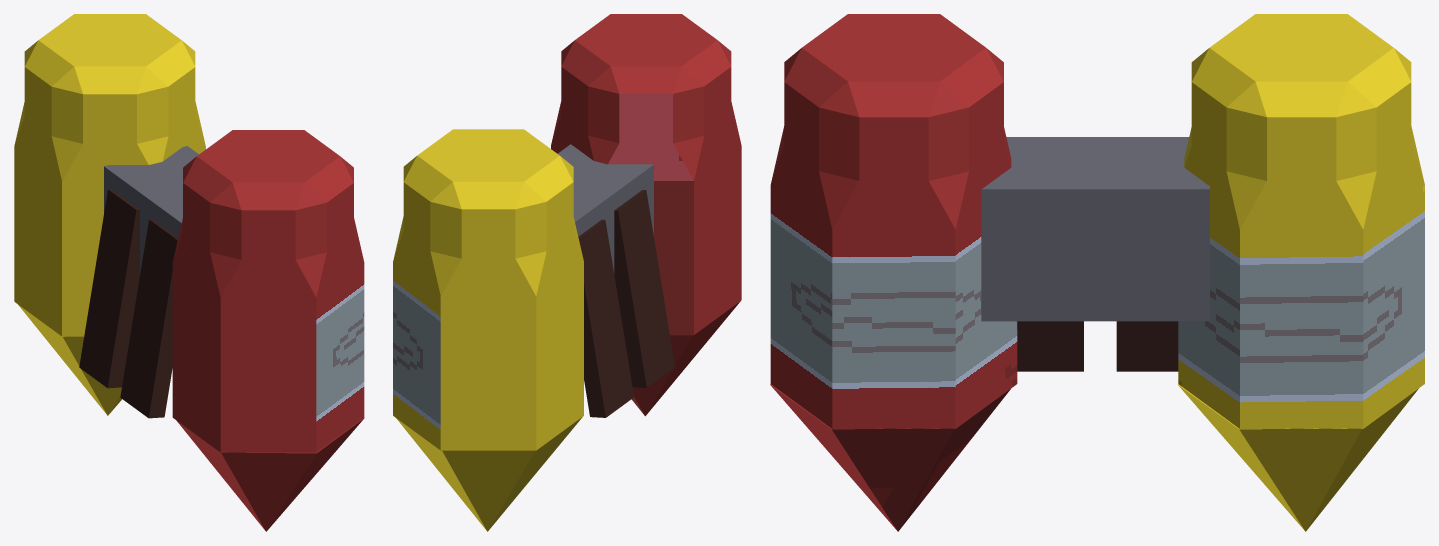
File: jetpack.glb
The picture shows the model from 3 angles, left to right: view 1: azimuth 30°, elevation 25°; view 2: azimuth 150°, elevation 25°; view 3: azimuth 270°, elevation 25°; orthographic projection. The views are drawn at different scales.
Visible parts, largest first — view 1: Cylinder, Cylinder.001, Cube.001, Cube.002, Cube; view 2: Cylinder.001, Cylinder, Cube.002, Cube.001, Cube; view 3: Cylinder.001, Cylinder, Cube, Cube.002, Cube.001.
Part boxes in pixels (left/top/right/bottom): Cylinder: left=172, top=130, right=364, bottom=531; Cylinder.001: left=14, top=14, right=205, bottom=415; Cube.001: left=79, top=189, right=139, bottom=388; Cube.002: left=120, top=219, right=178, bottom=418; Cube: left=104, top=146, right=198, bottom=274; Cylinder.001: left=393, top=129, right=583, bottom=531; Cylinder: left=551, top=14, right=741, bottom=416; Cube.002: left=614, top=190, right=674, bottom=387; Cube.001: left=578, top=219, right=633, bottom=417; Cube: left=558, top=144, right=653, bottom=273; Cylinder.001: left=1178, top=14, right=1424, bottom=531; Cylinder: left=770, top=14, right=1017, bottom=531; Cube: left=981, top=137, right=1209, bottom=321; Cube.002: left=1017, top=321, right=1083, bottom=371; Cube.001: left=1116, top=321, right=1178, bottom=371.
Size of the model in its own units: 1.76 by 4.34 by 5.31.
Materials: 5 (5 with a texture image).
